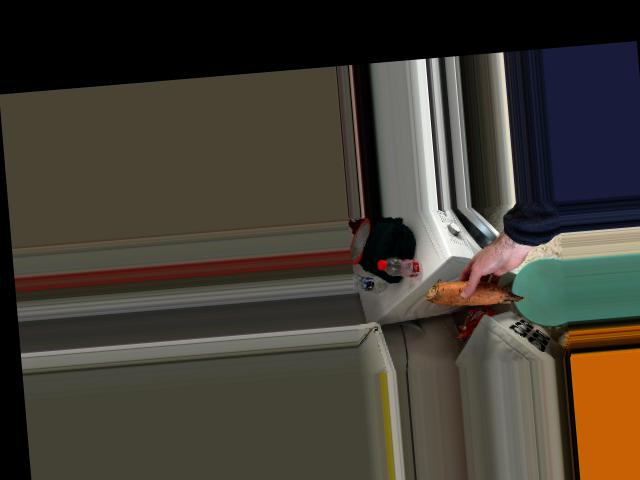sweet_potato: (423, 272, 521, 310)
